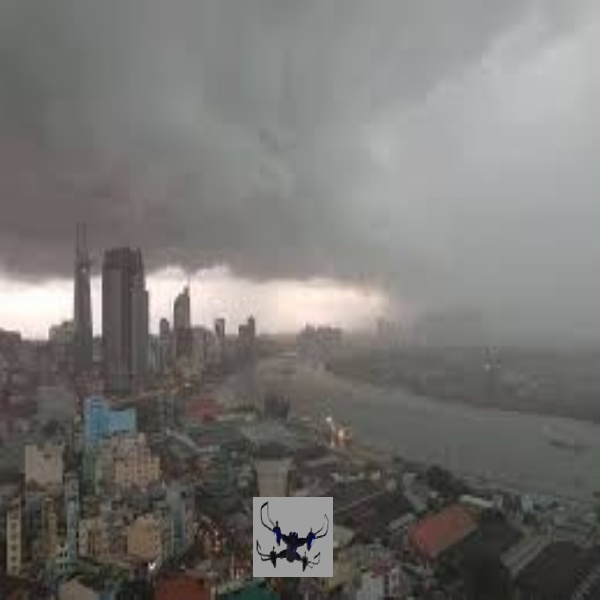drone: (255, 500, 334, 577)
